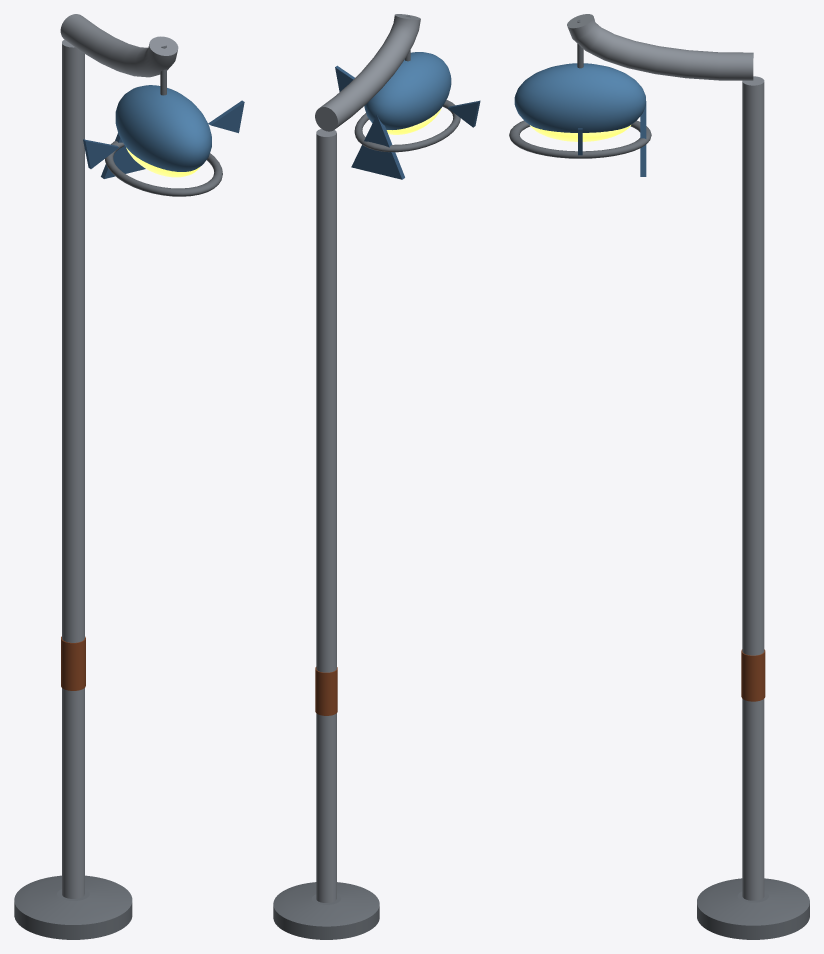
Rendered from zc_street_lamp.mobile-high.glb.
The picture shows the model from 3 angles, left to right: view 1: azimuth 30°, elevation 25°; view 2: azimuth 150°, elevation 25°; view 3: azimuth 270°, elevation 25°; orthographic projection. The views are drawn at different scales.
Parts seen in each view (by area): view 1: zc_street_lamp, lantern; view 2: zc_street_lamp, lantern; view 3: zc_street_lamp, lantern.
Boxes of the visible parts, x1,y1,x2,y2 form: zc_street_lamp: (14, 14, 178, 939); lantern: (83, 45, 244, 196); zc_street_lamp: (273, 14, 420, 939); lantern: (335, 15, 480, 179); zc_street_lamp: (567, 14, 809, 939); lantern: (509, 20, 651, 176).
Bounding box in the file's own units: 0.56 × 3.15 × 0.9565.
1 material, 1 textured.
